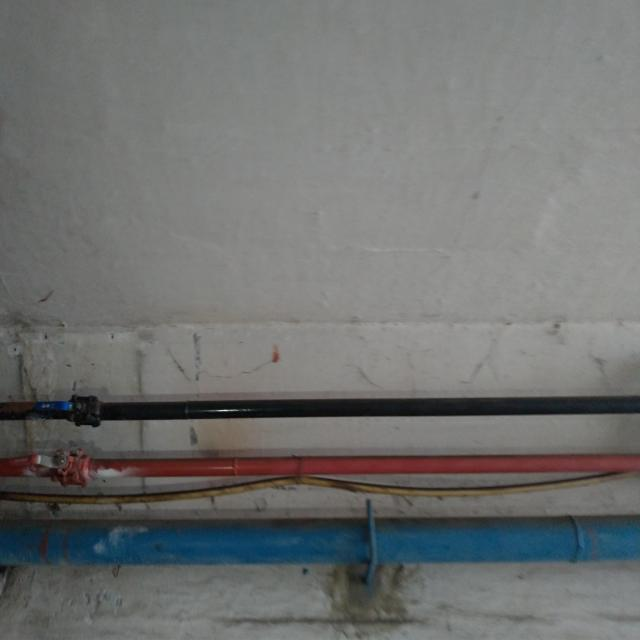gas: (4, 520, 640, 565), (1, 395, 639, 422), (5, 451, 637, 477)
